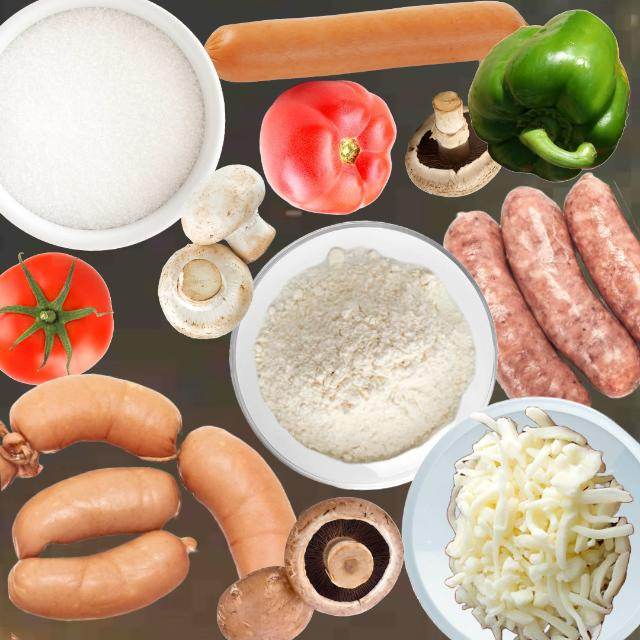Flour: (253, 244, 475, 463)
Sugar: (0, 5, 205, 229)
